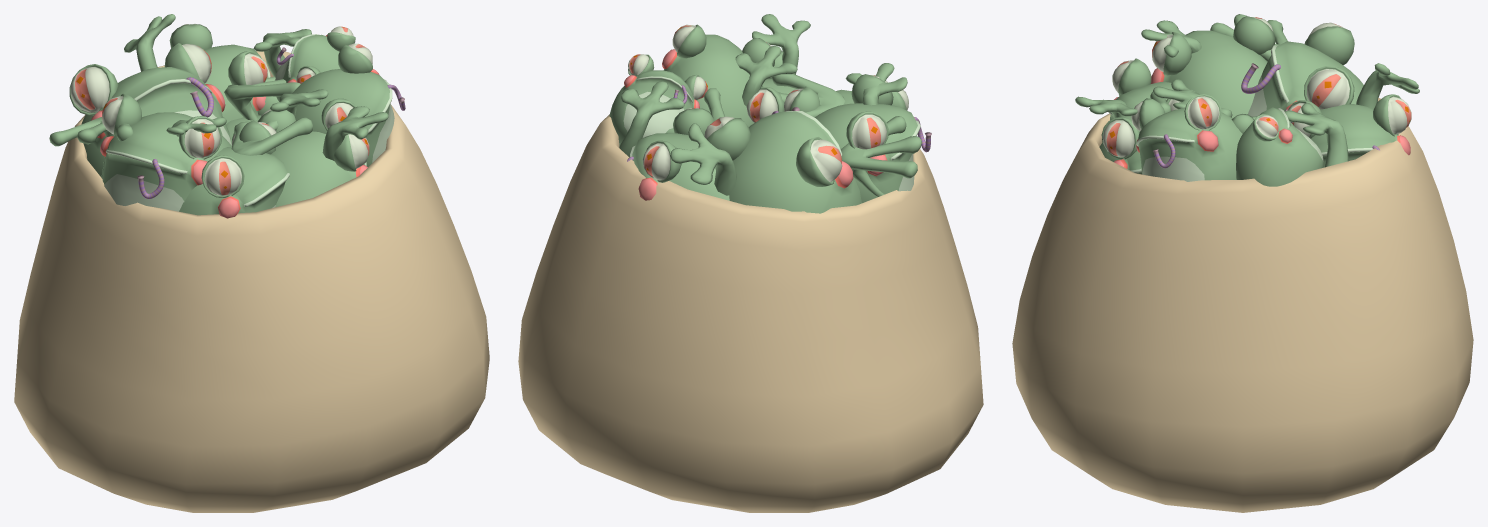
File: FrogBag_01.fbx
The picture shows the model from 3 angles, left to right: view 1: azimuth 30°, elevation 25°; view 2: azimuth 150°, elevation 25°; view 3: azimuth 270°, elevation 25°; orthographic projection. The views are drawn at different scales.
Visible parts, largest first — view 1: Cube.010; view 2: Cube.010; view 3: Cube.010.
Boxes of the visible parts, x1,y1,x2,y2 form: Cube.010: (14, 14, 489, 512); Cube.010: (518, 14, 983, 512); Cube.010: (1012, 14, 1473, 512).
Bounding box in the file's own units: 134 × 128 × 132.
